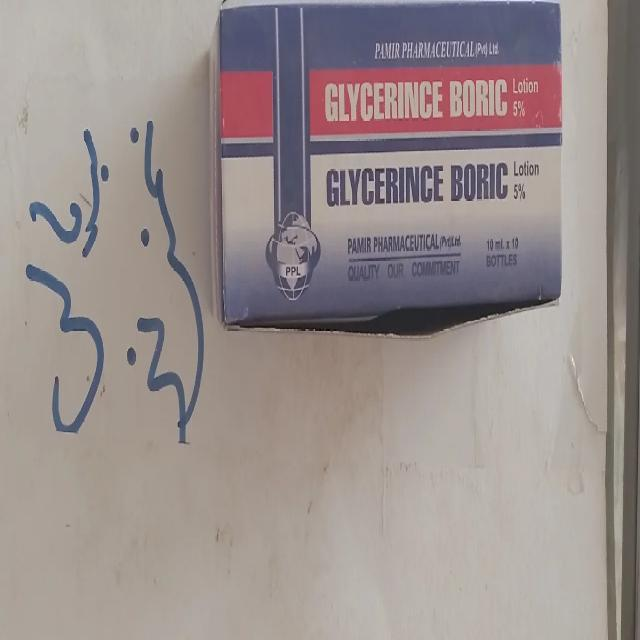drug-name: (323, 76, 510, 122)
